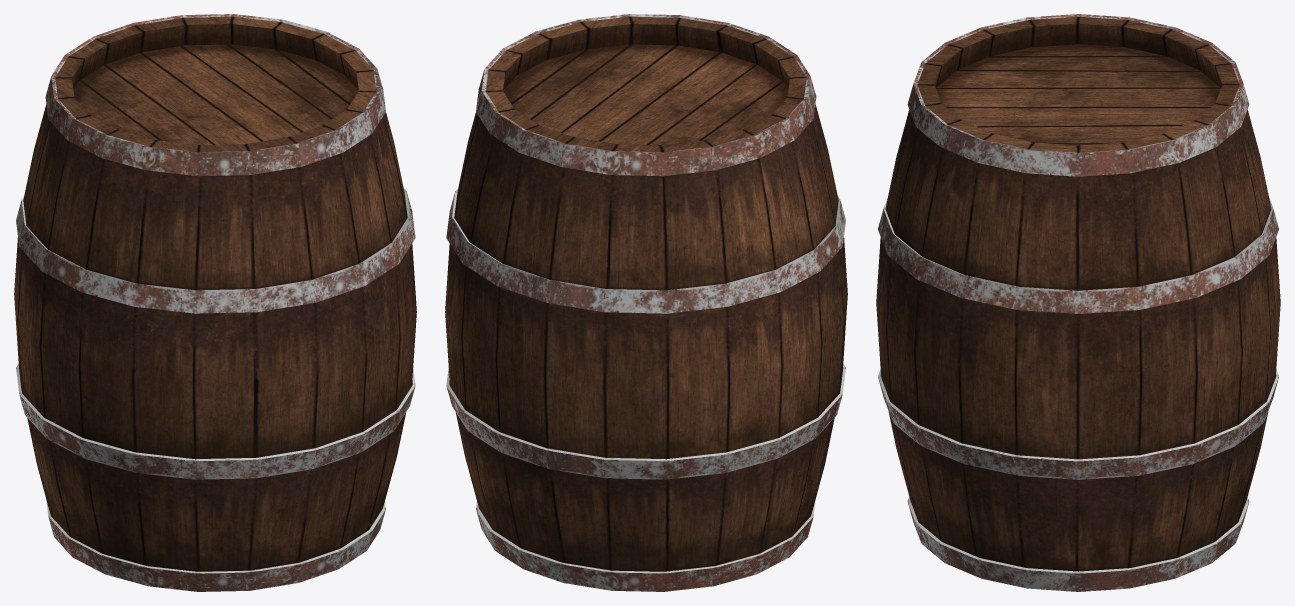
Rendered from barrel.glb.
3 views of the same model, side by side, from view 1: azimuth 30°, elevation 25°; view 2: azimuth 150°, elevation 25°; view 3: azimuth 270°, elevation 25° (orthographic).
Parts seen in each view (by area): view 1: PubBarrel; view 2: PubBarrel; view 3: PubBarrel.
Part boxes in pixels (x1,y1,x2,y2): PubBarrel: [14, 14, 416, 591]; PubBarrel: [445, 14, 847, 591]; PubBarrel: [876, 14, 1280, 591].
Bounding box in the file's own units: 0.756 × 0.9041 × 0.756.
1 material, 1 textured.
